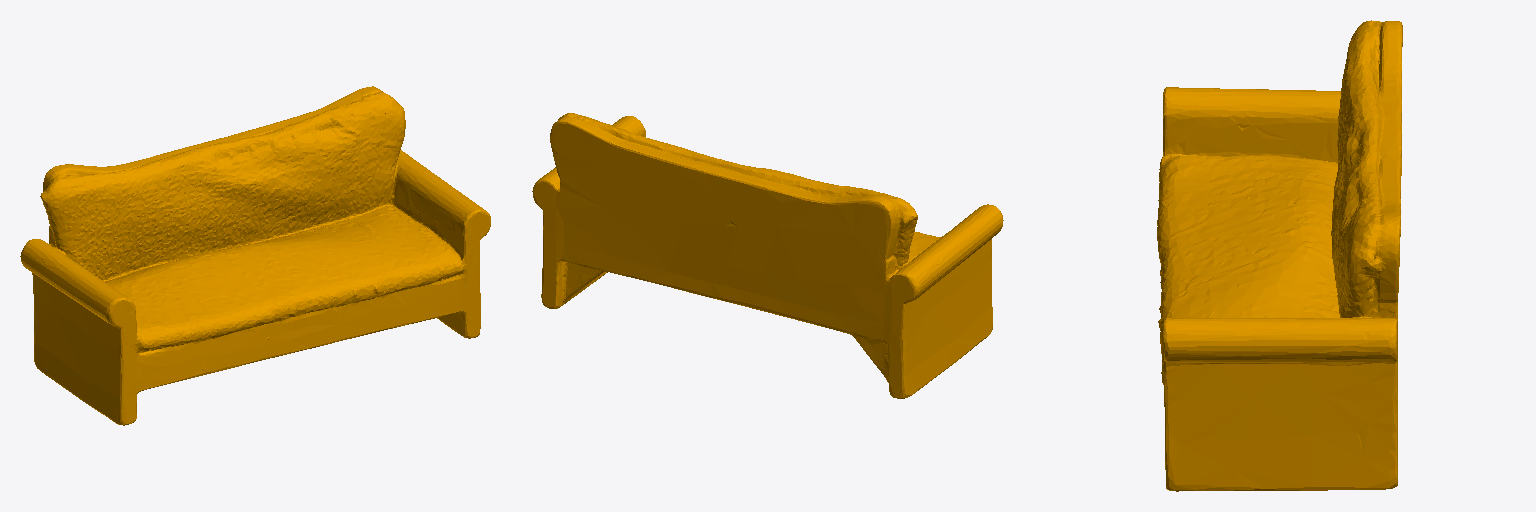
robot.urdf — 3D_Dollhouse_Sofa:

<robot name="3D_Dollhouse_Sofa">
    <link name="base">
        <inertial>
            <origin xyz="0.0 -1.8250496319410844e-18 2.7375744479116266e-18" />
            <mass value="0.000618820027269369" />
            <inertia ixx="6.442445732586611e-07" ixy="2.4526589739188007e-09" 
                     ixz="-2.2219656513918506e-08" iyy="2.628244538704643e-06" 
                     iyz="-1.4723763831961676e-07" izz="2.771637611006541e-06" />
        </inertial>
        <visual>
            <origin xyz="0 0 0" />
            <geometry>
                <mesh filename="visual_geometry.obj" />
            </geometry>
        </visual>
        <collision>
            <origin xyz="0 0 0" />
            <geometry>
                <mesh filename="collision_geometry.obj" />
            </geometry>
        </collision>
    </link>
</robot>

--- Facts derived from the render (not from the file) ---
3 views of the same robot in one strip: view 1: azimuth 30°, elevation 25°; view 2: azimuth 150°, elevation 25°; view 3: azimuth 270°, elevation 25° (orthographic).
Model 3D_Dollhouse_Sofa with 1 links and 0 joints (none), rooted at base, posed all joints at 0.
Links seen in each view (by area): view 1: base; view 2: base; view 3: base.
Boxes of the visible links, left/top/right/bottom form: base: left=20, top=86, right=490, bottom=425; base: left=532, top=113, right=1003, bottom=398; base: left=1157, top=20, right=1402, bottom=491.
Bounding box of the posed robot: 0.2096 × 0.0868 × 0.1023 m (x, y, z).
Meshes: 1 distinct files referenced, 1 mesh visuals loaded (1 OBJ).